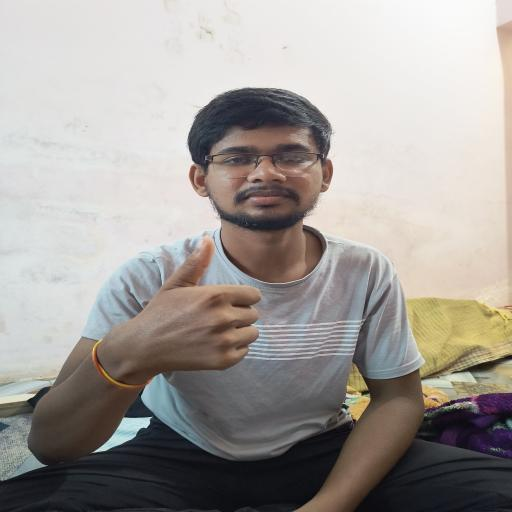Good Morning: (113, 232, 280, 389)
